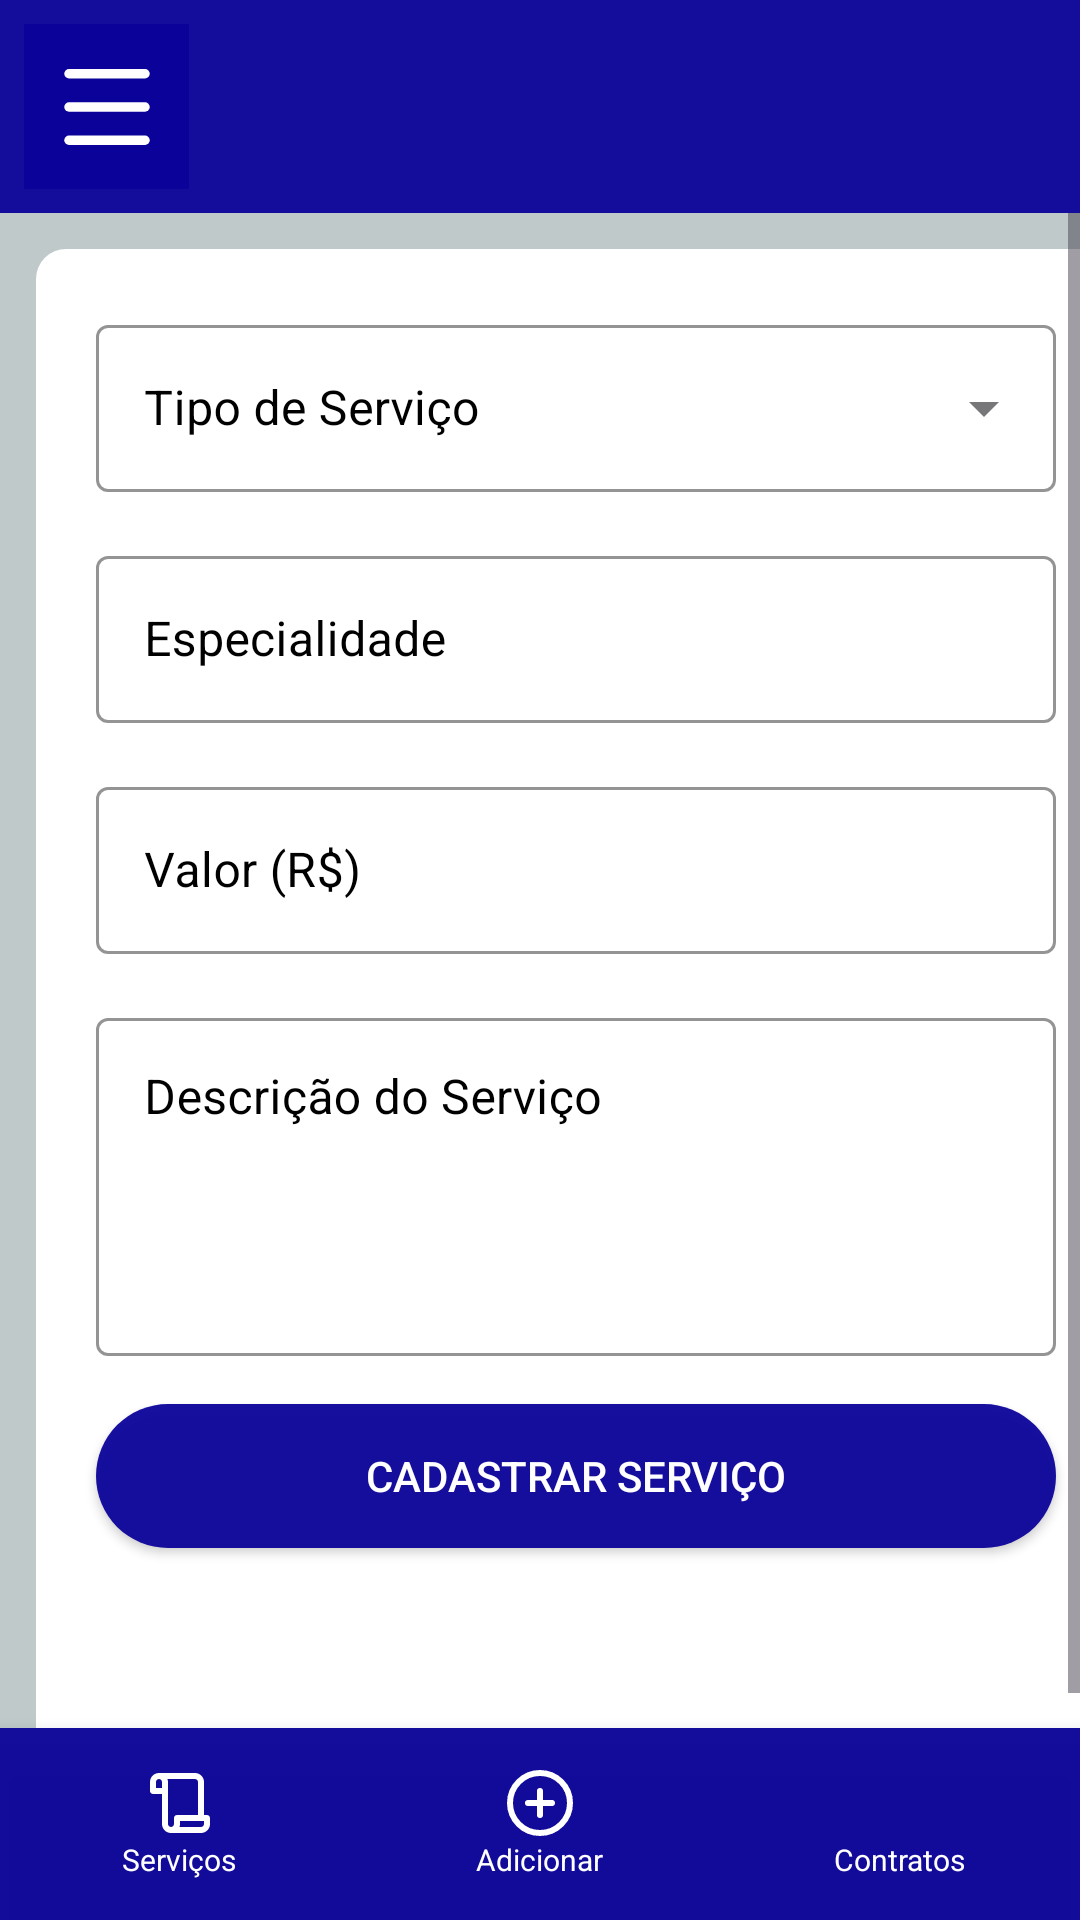

Point at icon controls on the screen. Image size 1080w x 1920h, points as [x,y].
circlep: [540,1803]
scroll: [180,1803]
